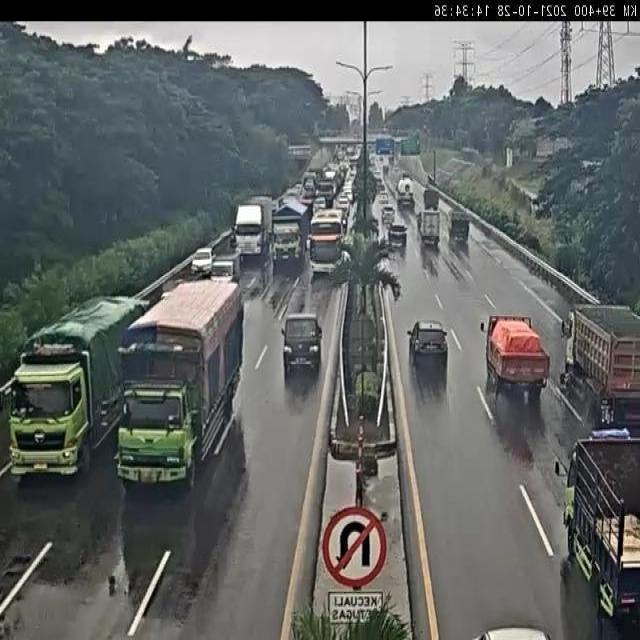Bus: (308, 209, 346, 275)
Car: (281, 313, 322, 379), (408, 320, 448, 378), (190, 247, 214, 276), (388, 224, 408, 246), (336, 194, 350, 220), (312, 195, 326, 214), (290, 183, 302, 197)
Truck: (119, 279, 243, 488), (7, 296, 146, 479), (563, 435, 640, 634), (562, 304, 640, 432), (485, 314, 549, 404), (272, 198, 312, 270), (233, 200, 272, 266), (417, 208, 441, 248), (449, 210, 470, 245)
